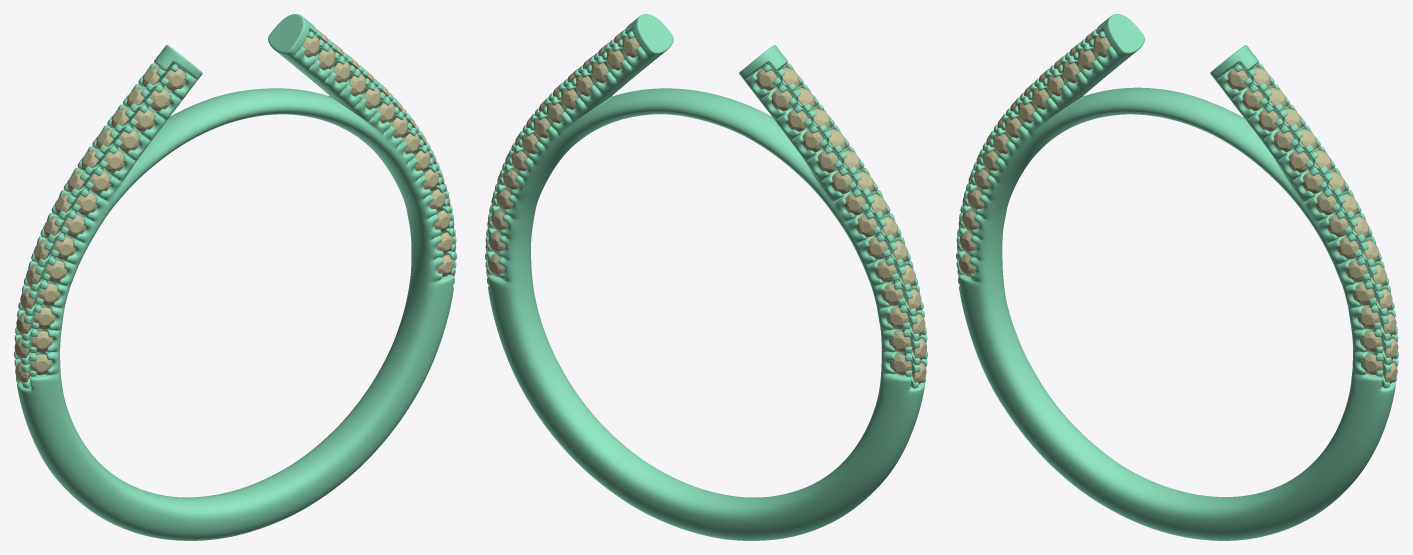
The picture shows the model from 3 angles, left to right: view 1: azimuth 30°, elevation 25°; view 2: azimuth 150°, elevation 25°; view 3: azimuth 330°, elevation 25°; orthographic projection.
Visible parts, largest first — view 1: Metal02; view 2: Metal02; view 3: Metal02.
Boxes of the visible parts, box(x1,y1,x2,y2) form: Metal02: box(14, 14, 456, 540); Metal02: box(485, 14, 927, 540); Metal02: box(956, 14, 1398, 540).
Bounding box in the file's own units: 20.89 × 23.02 × 1.88.
